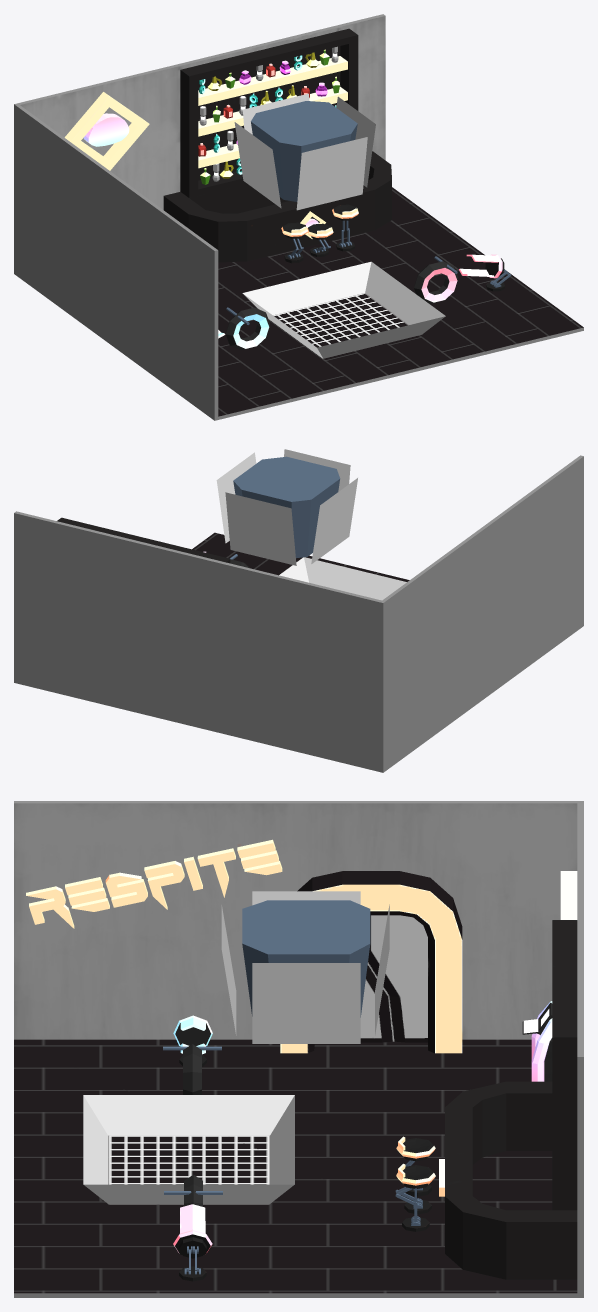
Rendered from Cubicle progress4.glb.
3 views of the same model, one above another, from view 1: azimuth 30°, elevation 25°; view 2: azimuth 150°, elevation 25°; view 3: azimuth 270°, elevation 25° (orthographic). The views are drawn at different scales.
Parts seen in each view (by area): view 1: Cylinder.001; view 2: Cylinder.001; view 3: Cylinder.001.
Boxes of the visible parts, x1=… form: Cylinder.001: x1=14, y1=14, x2=583, y2=420; Cylinder.001: x1=14, y1=449, x2=583, y2=772; Cylinder.001: x1=14, y1=801, x2=583, y2=1297.
Bounding box in the file's own units: 43.69 × 19.82 × 41.13.
6 materials, 3 textured.
